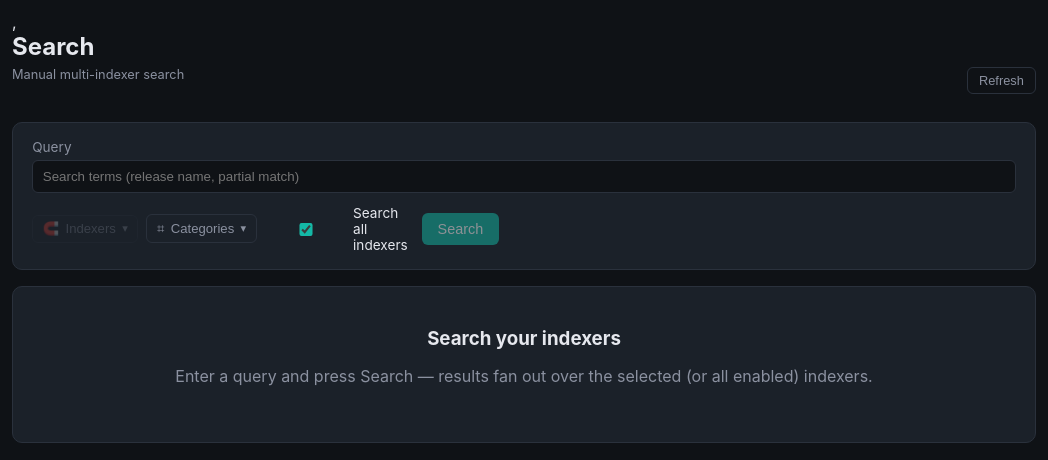
ReleaseSearchPage — results + grab › renders the results table (title, indexer, human size, seeders, protocol)
Expected: the button with test id "release-search-btn" is shown, [422,213,499,245]
Type "Breaking Bad" into the field with test id "release-search-query".
click(524, 176); type("Breaking Bad")  # box [32,160,1016,193]
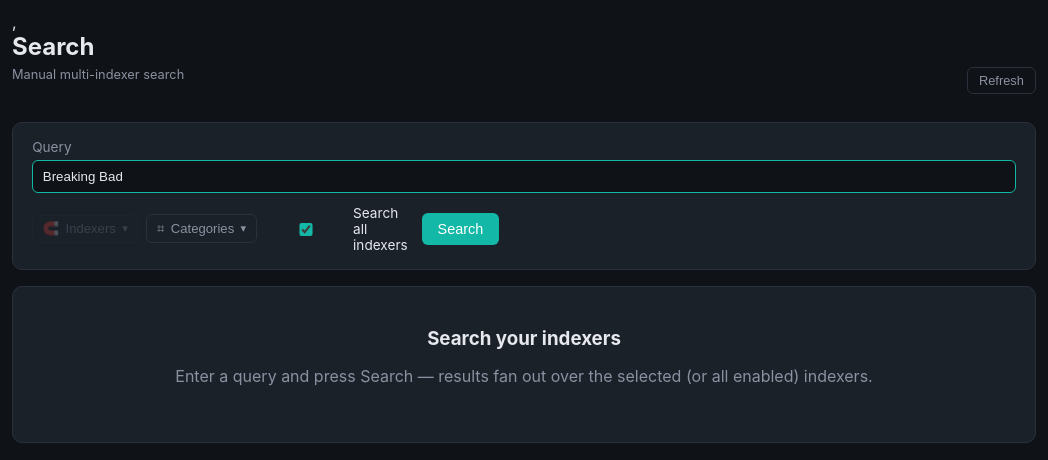
Click the button with test id "release-search-btn".
click(460, 229)  # box [422,213,499,245]
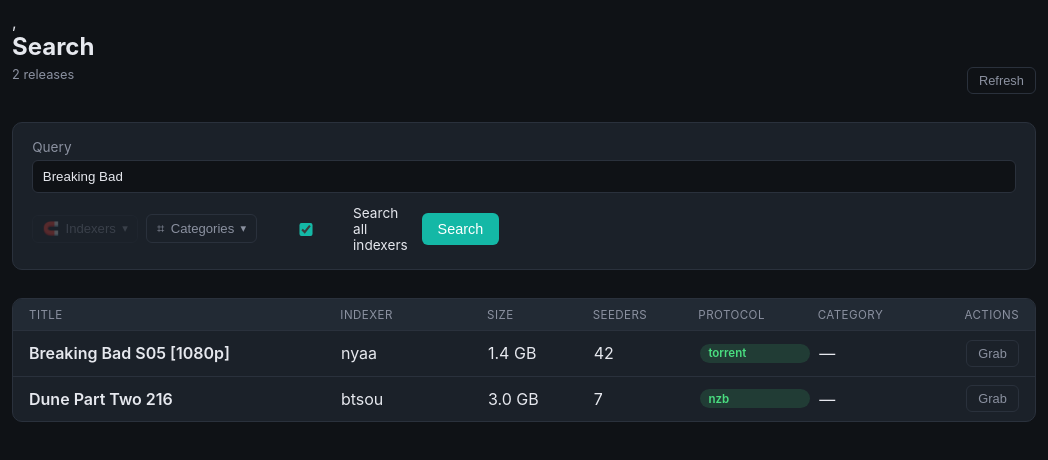
Result: the element with test id "release-search-results" is shown at [12,298,1036,422]
Result: the element with test id "release-row-0" shows "Breaking Bad S05 [1080p]" at [29,344,230,364]
Result: the text with test id "release-indexer-0" reads "nyaa" at [341,344,377,364]
